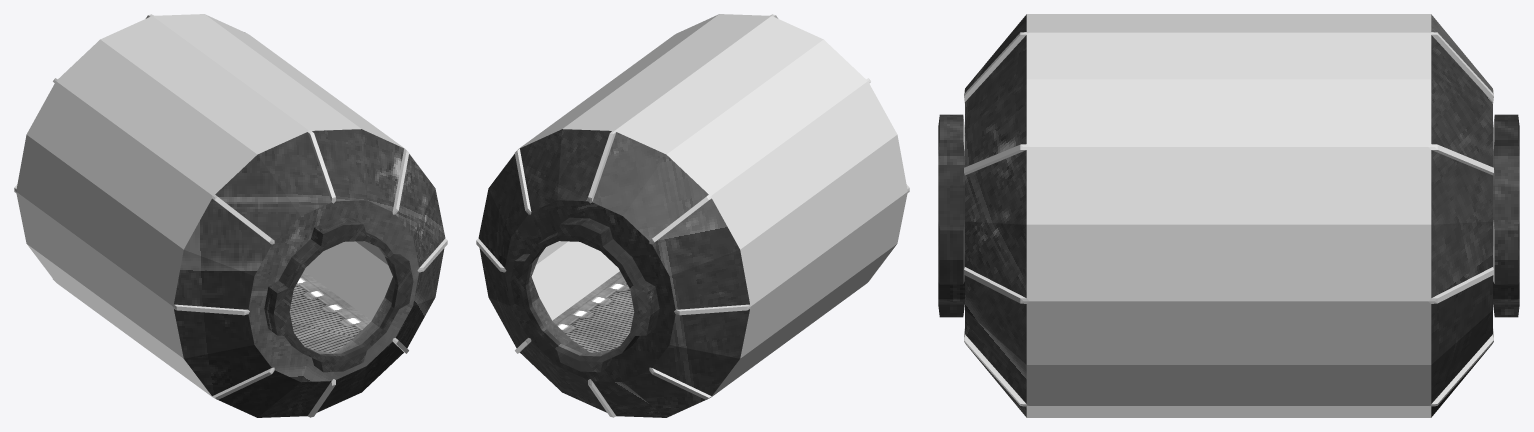
File: small_station_module_base.glb
The picture shows the model from 3 angles, left to right: view 1: azimuth 30°, elevation 25°; view 2: azimuth 150°, elevation 25°; view 3: azimuth 270°, elevation 25°; orthographic projection. The views are drawn at different scales.
Visible parts, largest first — view 1: Small Station Module Base; view 2: Small Station Module Base; view 3: Small Station Module Base.
Part boxes in pixels (bbox=[...]): Small Station Module Base: bbox=[14, 14, 447, 417]; Small Station Module Base: bbox=[476, 14, 909, 417]; Small Station Module Base: bbox=[938, 14, 1519, 417].
Bounding box in the file's own units: 5.3 × 5.3 × 7.62.
3 materials, 2 textured.
